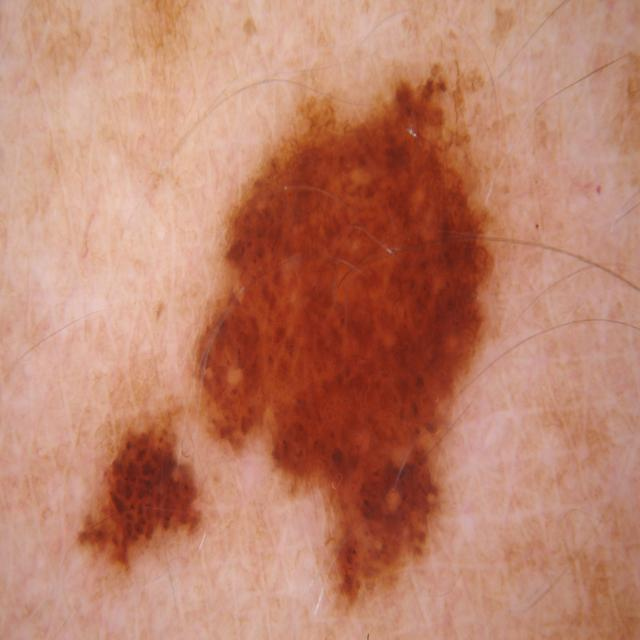Skin-Cancer Nevus: (46, 10, 618, 637)
